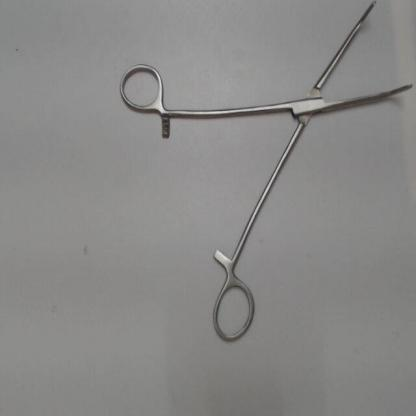Lahey Forceps: (109, 0, 414, 354)
